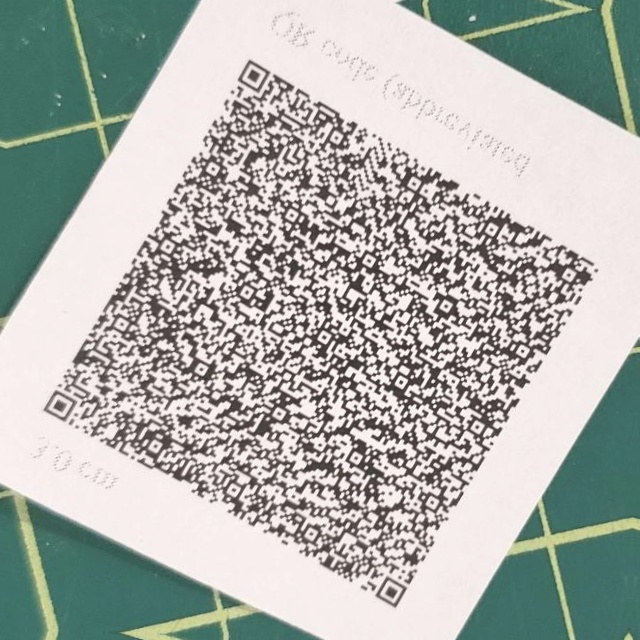qr-code: (17, 44, 622, 633)
